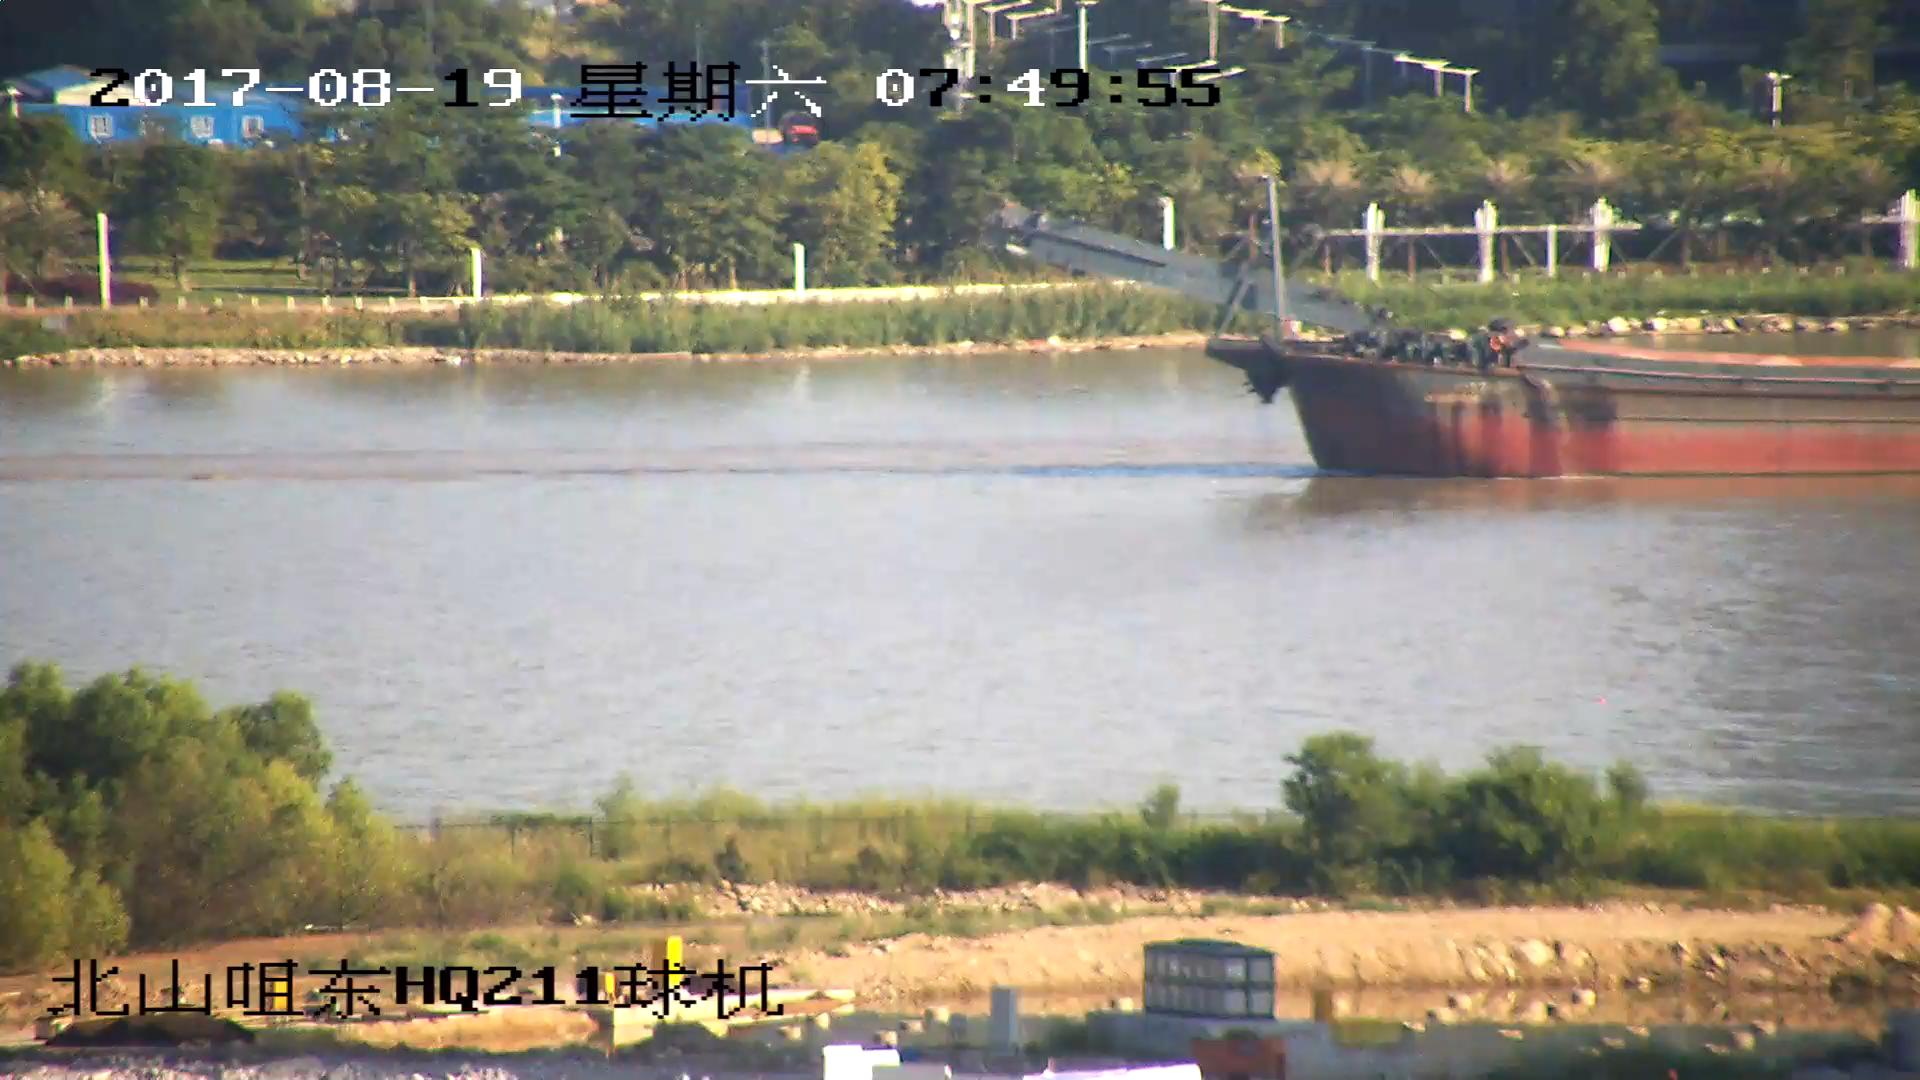bulk cargo carrier: (997, 185, 1920, 484)
